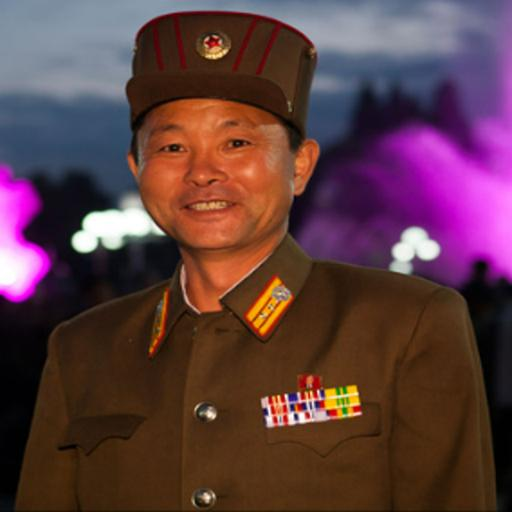north army: (30, 27, 512, 512)
